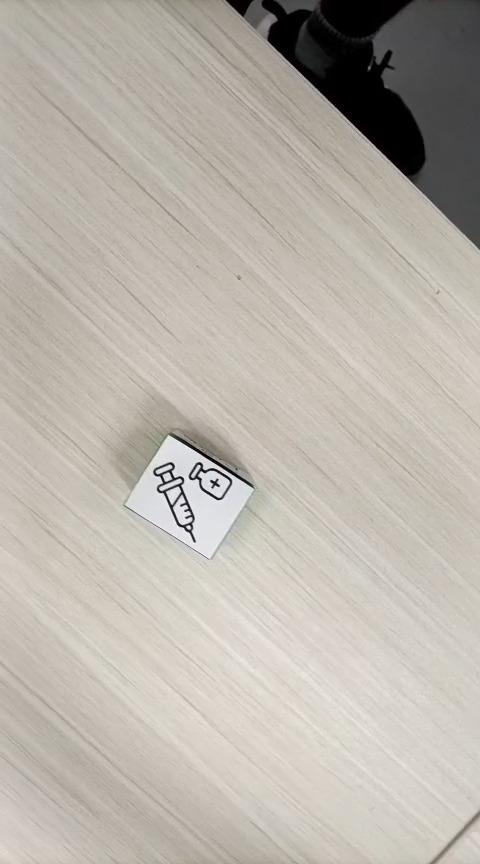antiseptic cream: (122, 429, 255, 560)
